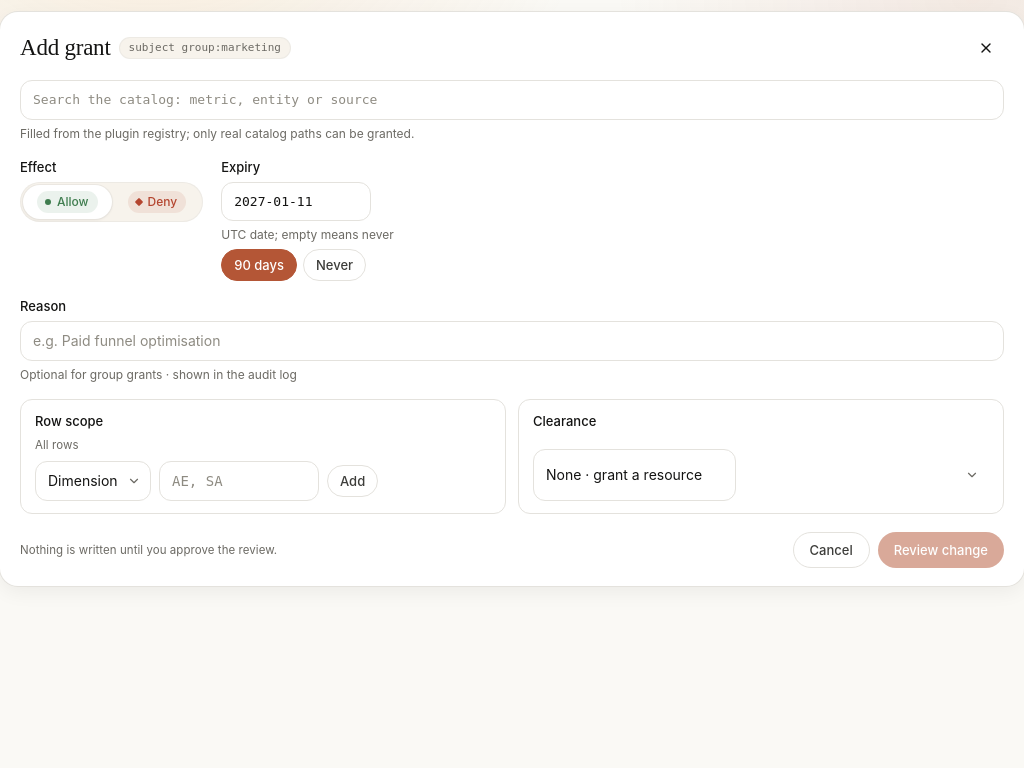
Test: GrantEditor › a deny carries no row scope: the builder is replaced by a note
expect the dropdown named "Dimension" is shown: met, box [35,461,151,501]
Click the radio button labelled "Deny": (157, 202) [114,185,200,219]
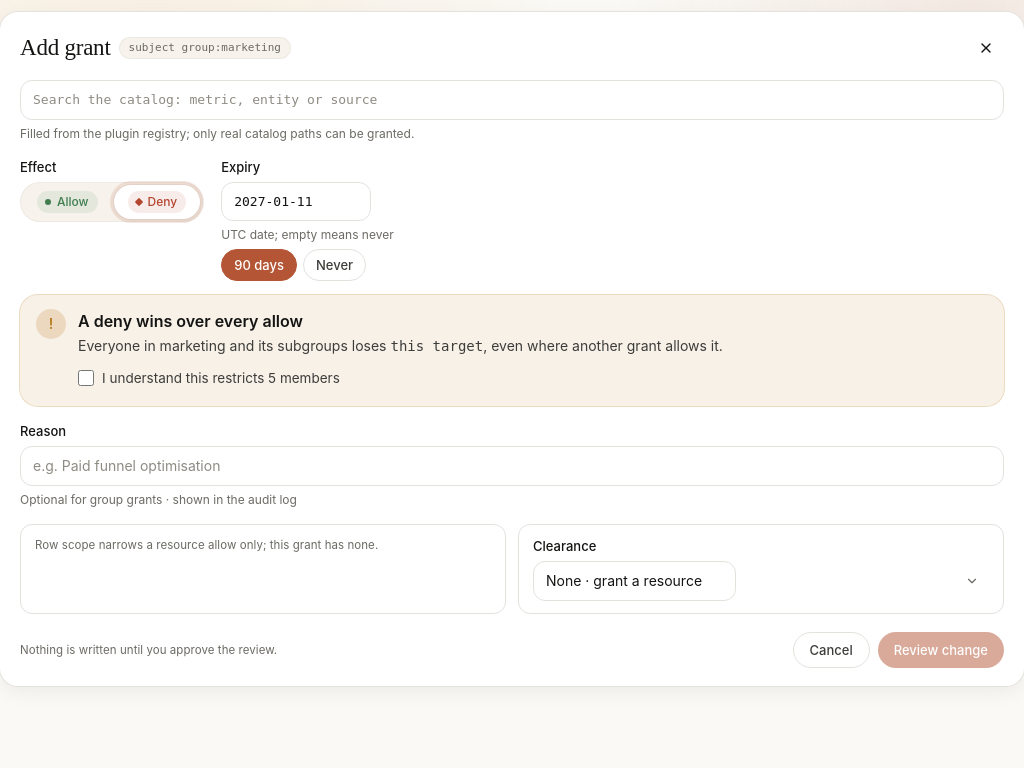
expect the dropdown labelled "Dimension" is gone: met
expect the text "Row scope narrows a resource allow only" is shown: met, box [35,538,378,552]
